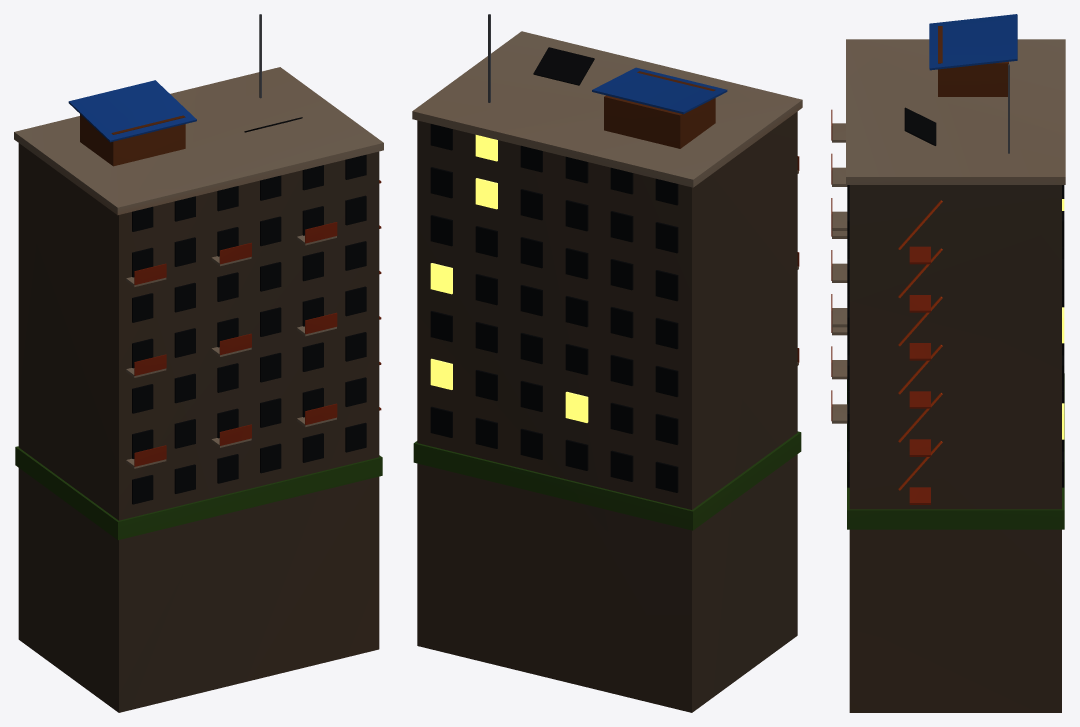
The model's file is tb_tower_brick.three-web-toon.glb.
The picture shows the model from 3 angles, left to right: view 1: azimuth 30°, elevation 25°; view 2: azimuth 150°, elevation 25°; view 3: azimuth 270°, elevation 25°; orthographic projection. The views are drawn at different scales.
Parts seen in each view (by area): view 1: tower_brick_body; view 2: tower_brick_body; view 3: tower_brick_body.
Boxes of the visible parts, x1=… form: tower_brick_body: x1=14, y1=14, x2=383, y2=712; tower_brick_body: x1=412, y1=14, x2=802, y2=712; tower_brick_body: x1=831, y1=14, x2=1065, y2=712.
Size of the model in its own units: 20.3 by 39 by 13.23.
